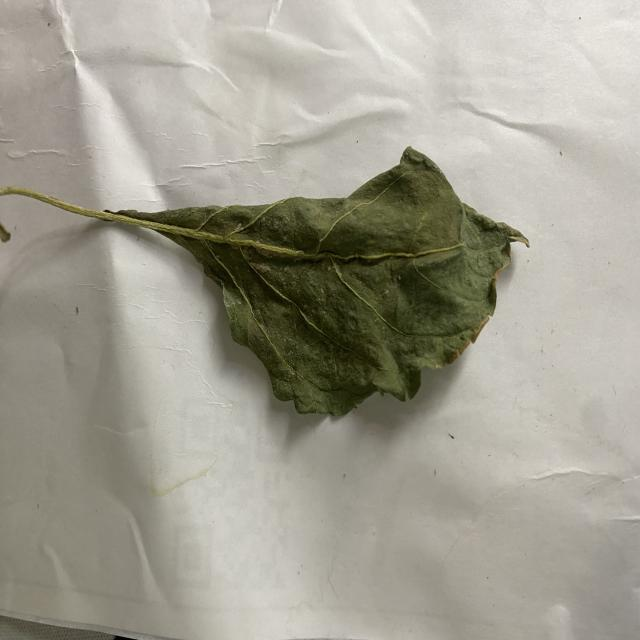Leaf: (151, 144, 531, 420)
